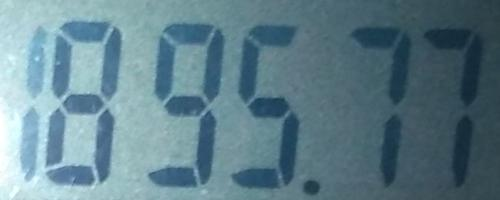.: (296, 178, 321, 197)
